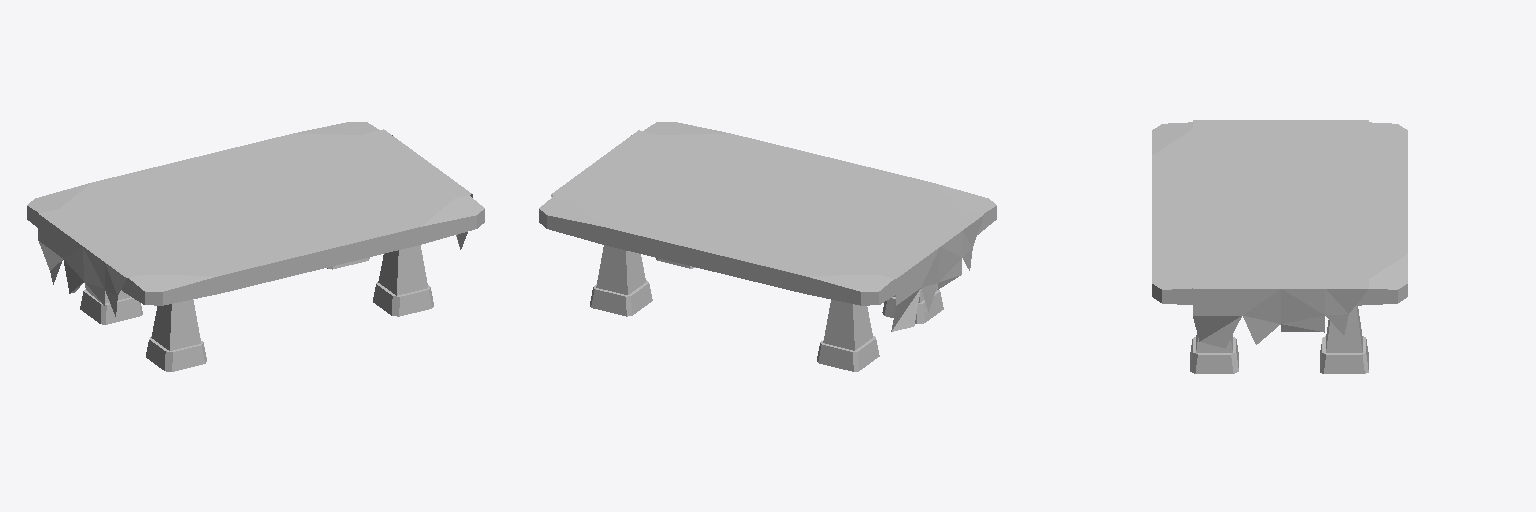
File: mesaPeque.obj
The picture shows the model from 3 angles: view 1: azimuth 30°, elevation 25°; view 2: azimuth 150°, elevation 25°; view 3: azimuth 270°, elevation 25°; orthographic projection.
Parts seen in each view (by area): view 1: MesaPeque_1_Plane.001; view 2: MesaPeque_1_Plane.001; view 3: MesaPeque_1_Plane.001.
Part boxes in pixels (bbox=[...]): MesaPeque_1_Plane.001: bbox=[27, 122, 484, 371]; MesaPeque_1_Plane.001: bbox=[539, 122, 996, 371]; MesaPeque_1_Plane.001: bbox=[1152, 120, 1407, 373].
Size of the model in its own units: 1.75 by 0.4958 by 1.11.